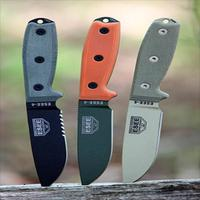knife: (10, 15, 76, 185), (121, 8, 178, 182), (72, 10, 119, 185)
